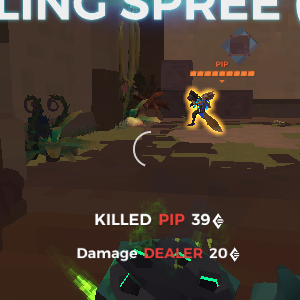model: (184, 84, 221, 134)
